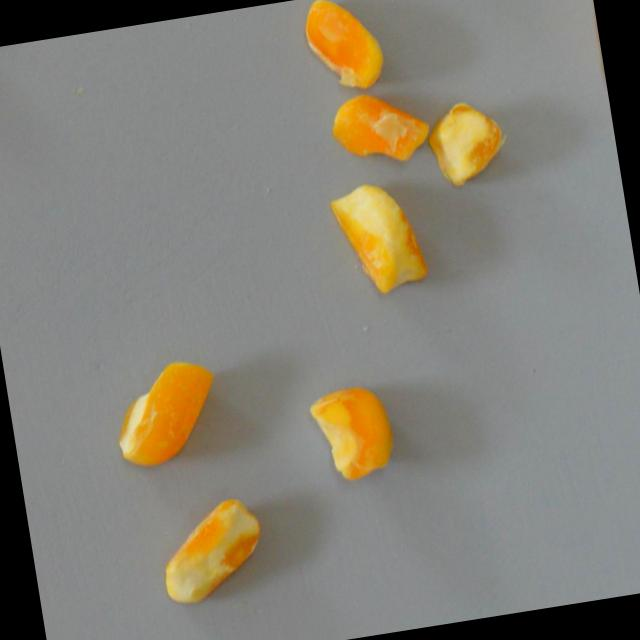pelicula: (101, 347, 235, 480), (286, 359, 419, 493), (145, 489, 278, 622), (315, 170, 448, 303), (316, 76, 436, 175), (296, 0, 398, 98), (572, 0, 610, 106)
